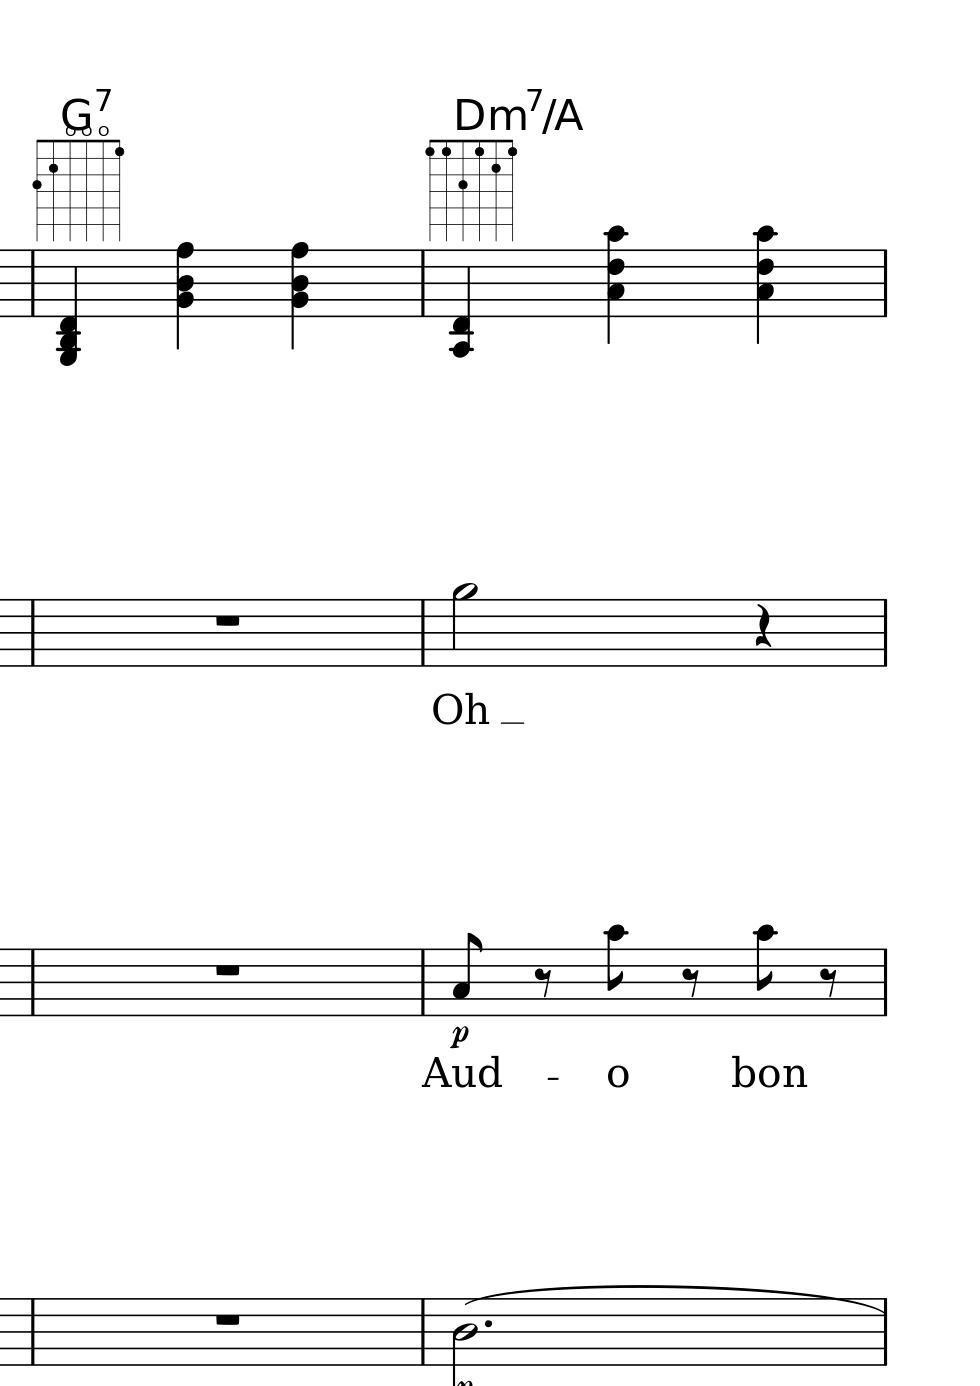2_4: (450, 1296, 478, 1385)
2_9: (451, 582, 479, 668)
4_-4_-1: (448, 248, 476, 358)
4_th: (53, 249, 83, 368), (601, 224, 629, 343), (751, 225, 778, 343), (173, 239, 196, 352), (287, 240, 310, 350)
7: (95, 85, 112, 113)
8_10: (750, 923, 778, 1019), (603, 923, 630, 1018)
8_3: (450, 931, 483, 1019)
Fretboard: (30, 135, 126, 246), (425, 134, 521, 240)
Rests1: (210, 960, 245, 980), (210, 1310, 245, 1329), (210, 611, 244, 630)
Rests4: (752, 602, 773, 649)
Rests8: (818, 966, 841, 1004), (531, 966, 554, 999), (680, 966, 702, 999)
Single_barline: (875, 250, 894, 317), (414, 1298, 432, 1366), (23, 599, 40, 667), (415, 599, 432, 667), (23, 948, 40, 1016), (23, 1298, 40, 1366), (876, 949, 893, 1016), (24, 251, 41, 317), (414, 251, 431, 317), (876, 600, 893, 666), (415, 949, 430, 1015), (878, 1298, 892, 1366)
dot: (482, 1317, 494, 1331)
p: (447, 1024, 469, 1051)
